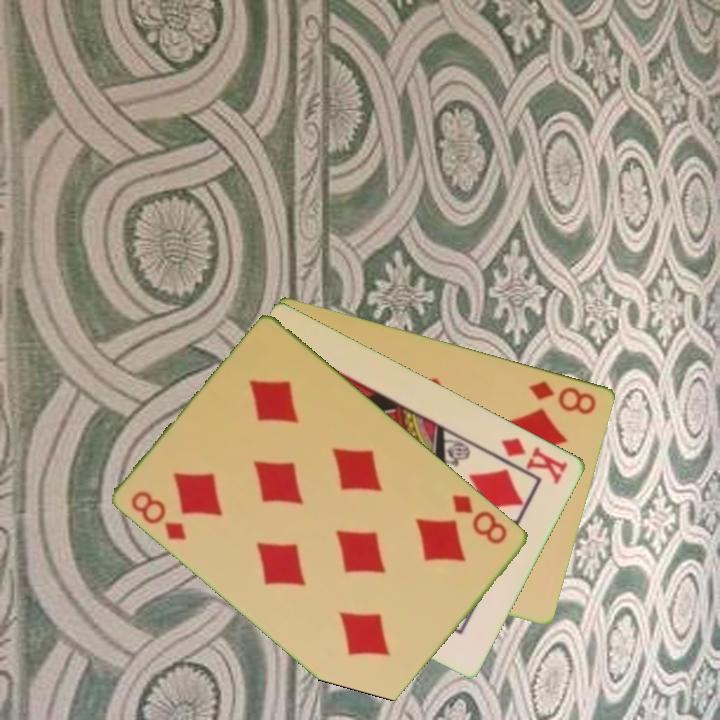8d: (449, 491, 511, 548), (128, 487, 190, 544), (526, 376, 600, 417)
Kd: (498, 433, 572, 488)
